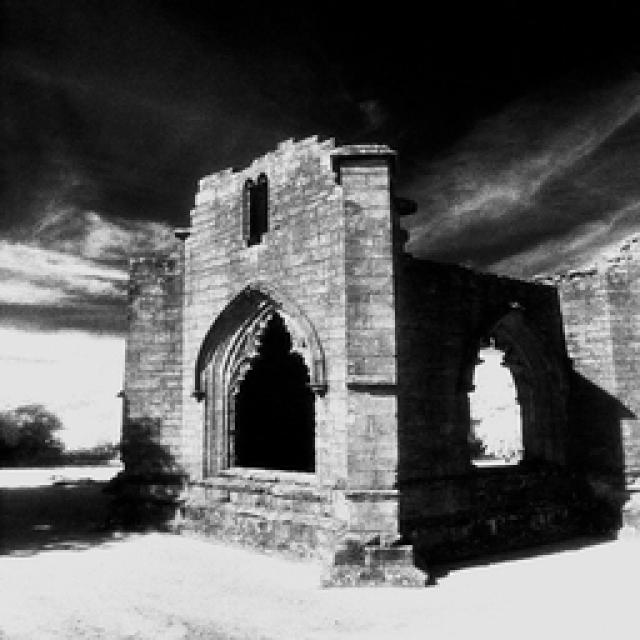Abbey: (116, 86, 555, 565)
